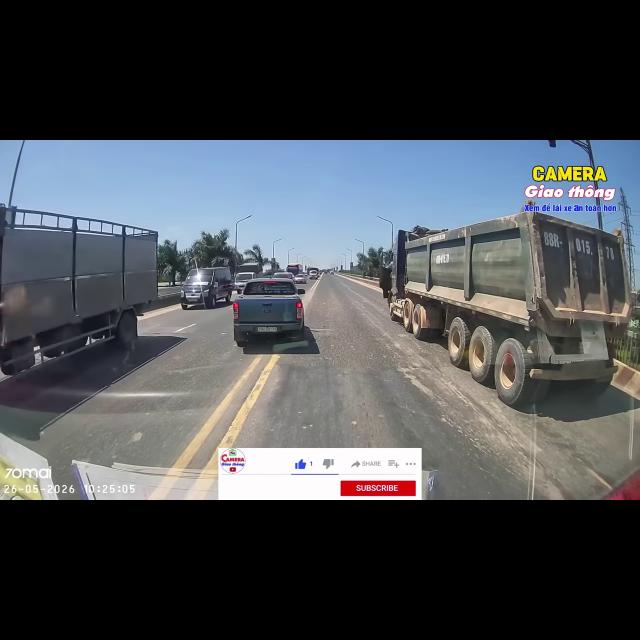car: (233, 278, 304, 347), (180, 267, 234, 309), (235, 272, 256, 293), (272, 272, 294, 280), (294, 274, 307, 283), (309, 269, 319, 279), (323, 270, 327, 273), (302, 272, 307, 274), (330, 271, 333, 274)
truck: (379, 212, 632, 407), (0, 206, 157, 375), (236, 263, 262, 273), (286, 263, 303, 275), (307, 267, 319, 279)
